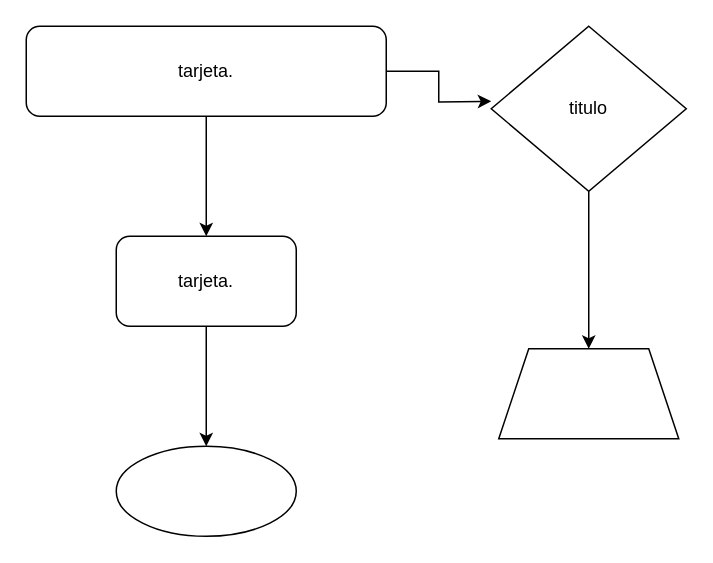
Image size: 713x563. Some labels were removed from this diagram. Here are the shapes that lost their labels. From the top down, the box of each, then its label:
(497, 347, 679, 439): parrafo informativo
(115, 445, 296, 536): imagen.
